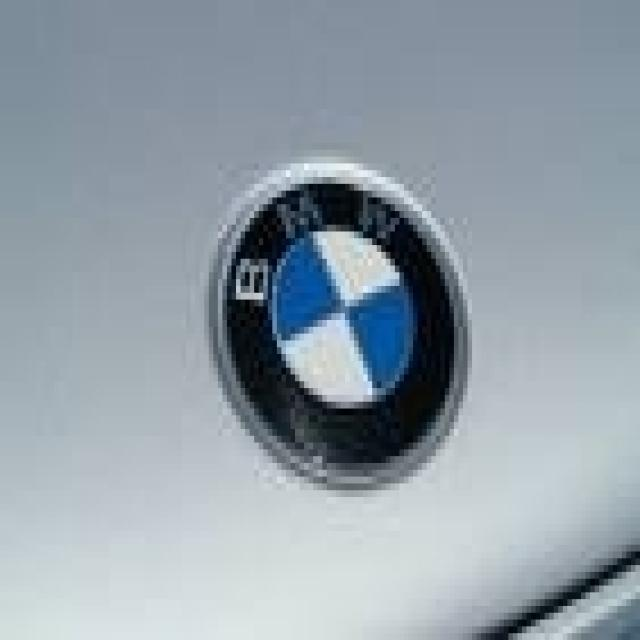bmw: (201, 144, 473, 505)
